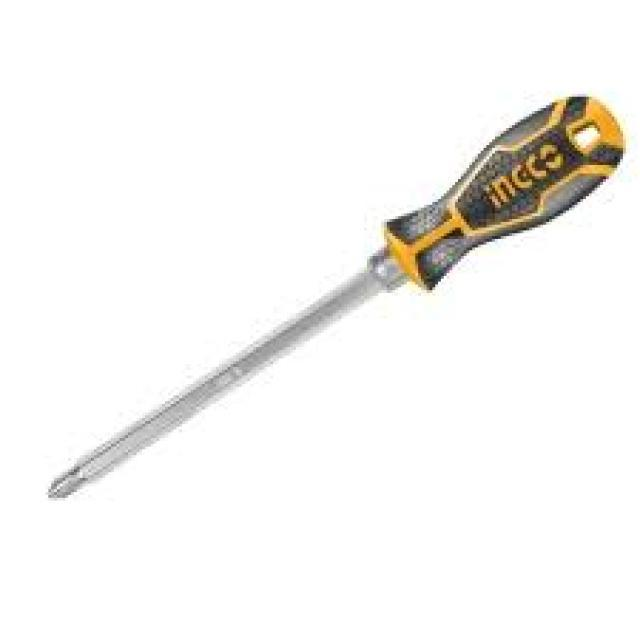screwdriver: (45, 94, 626, 504)
